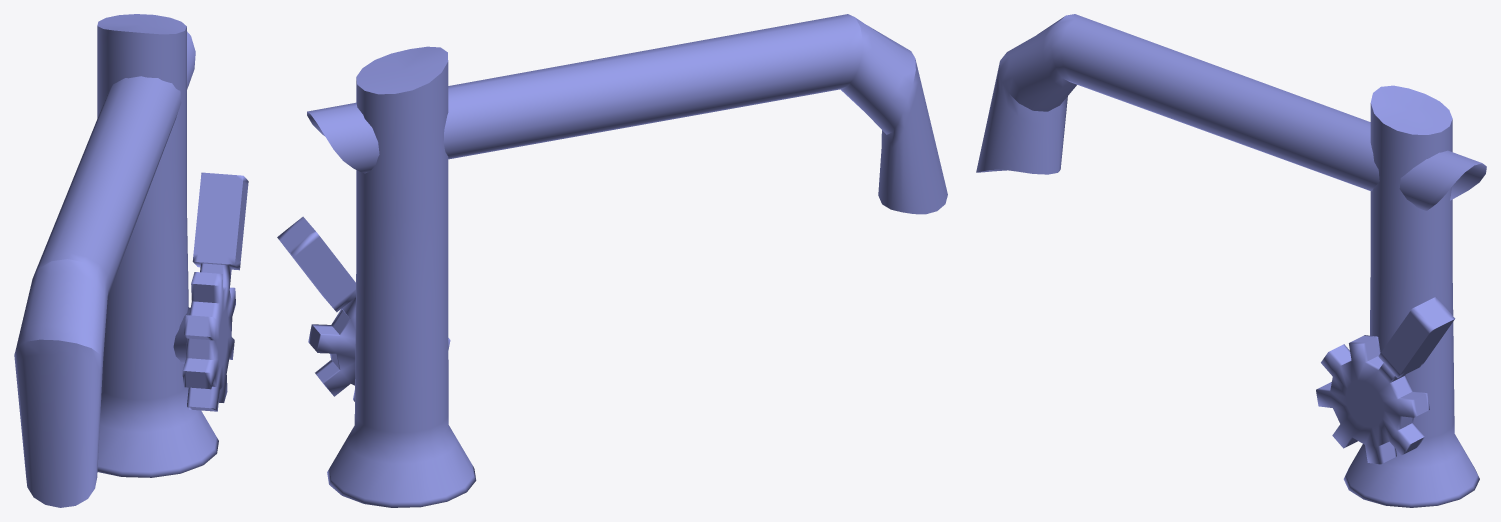
File: Faucet_low.fbx
The picture shows the model from 3 angles, left to right: view 1: azimuth 30°, elevation 25°; view 2: azimuth 150°, elevation 25°; view 3: azimuth 270°, elevation 25°; orthographic projection. The views are drawn at different scales.
Visible parts, largest first — view 1: Faucet_Low; view 2: Faucet_Low; view 3: Faucet_Low.
Part boxes in pixels (left/top/right/bottom): Faucet_Low: left=14, top=14, right=248, bottom=507; Faucet_Low: left=277, top=14, right=947, bottom=507; Faucet_Low: left=976, top=14, right=1486, bottom=507.
Size of the model in its own units: 258 by 238 by 291.
